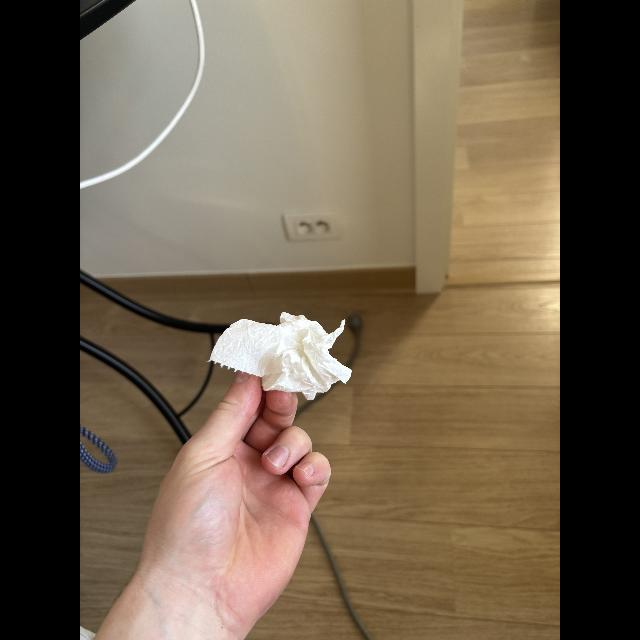Paper: (209, 306, 363, 404)
